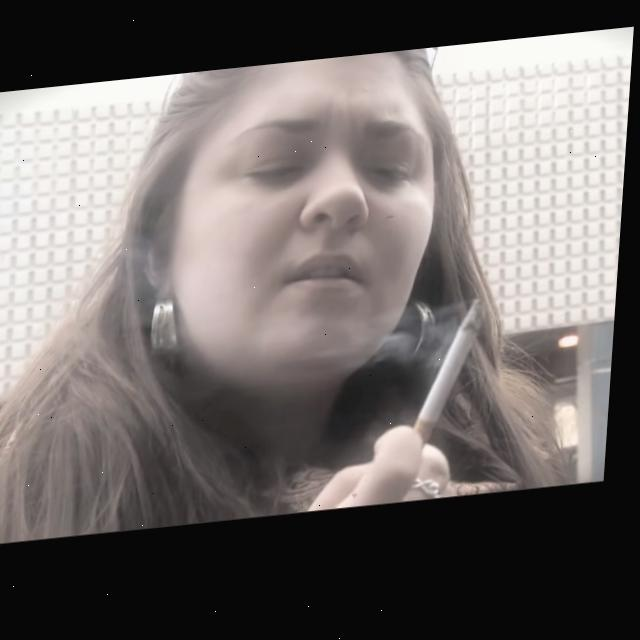cigarette: (418, 308, 493, 464)
